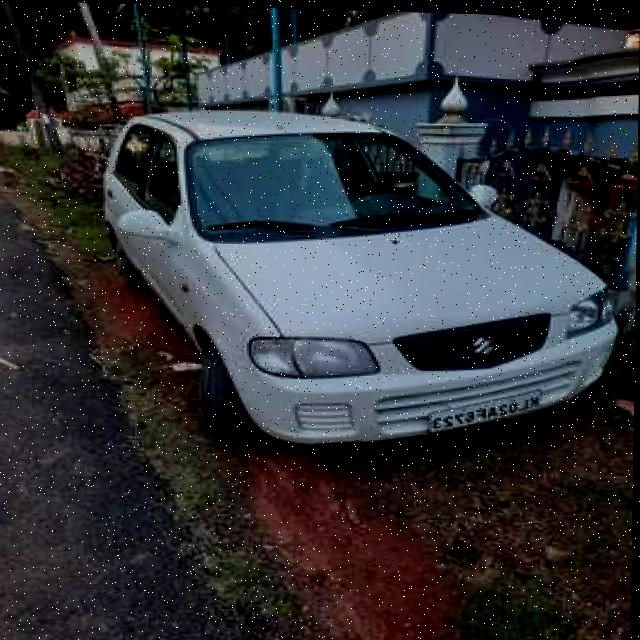plate: (429, 385, 544, 432)
